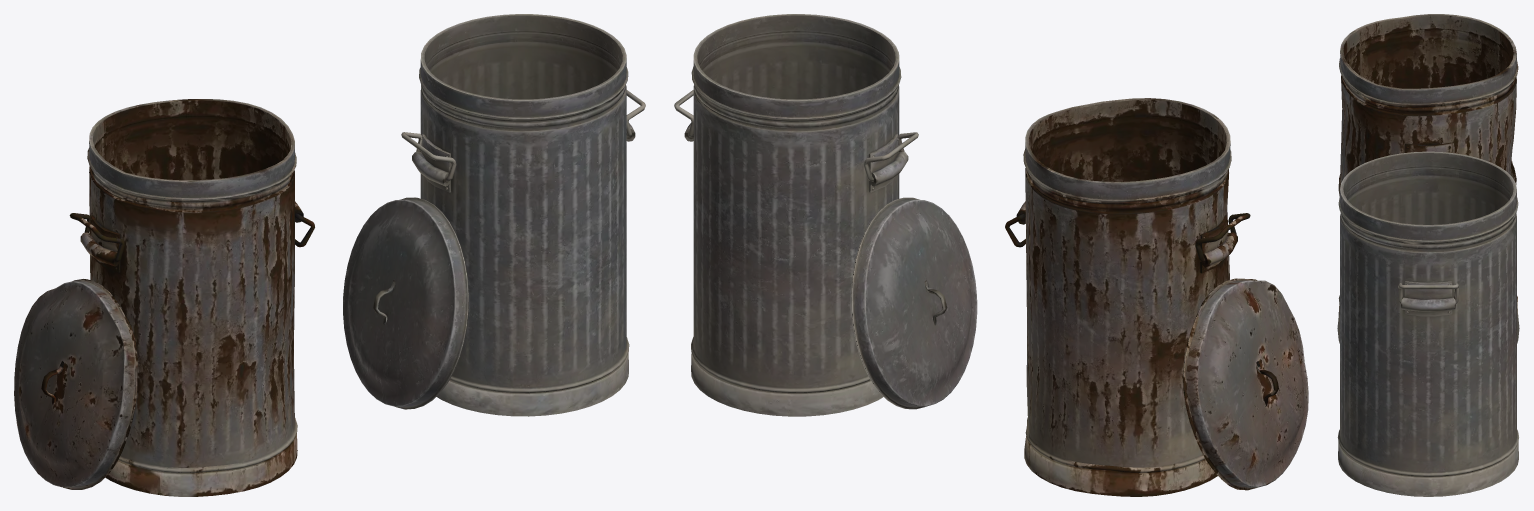
File: trash_can.glb
The picture shows the model from 3 angles, left to right: view 1: azimuth 30°, elevation 25°; view 2: azimuth 150°, elevation 25°; view 3: azimuth 270°, elevation 25°; orthographic projection. The views are drawn at different scales.
Parts seen in each view (by area): view 1: metal_trash_can_handle_left, metal_trash_can_rust; view 2: metal_trash_can_handle_left, metal_trash_can_rust; view 3: metal_trash_can_handle_left, metal_trash_can_rust.
Boxes of the visible parts, box(x1,y1,x2,y2) form: metal_trash_can_handle_left: box(343, 14, 645, 416); metal_trash_can_rust: box(14, 99, 314, 496); metal_trash_can_handle_left: box(674, 14, 977, 416); metal_trash_can_rust: box(1005, 98, 1308, 496); metal_trash_can_handle_left: box(1337, 151, 1519, 496); metal_trash_can_rust: box(1338, 14, 1518, 316).
Bounding box in the file's own units: 1.78 × 0.9062 × 0.5543.
2 materials, 2 textured.
